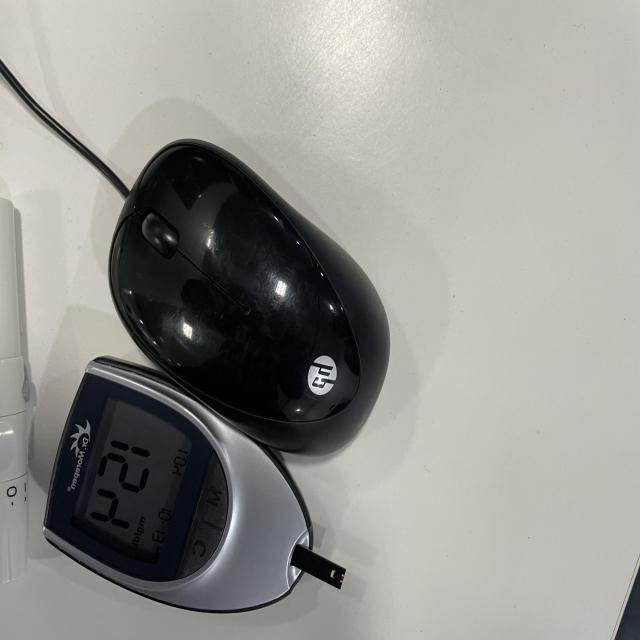gluco: (42, 357, 346, 615)
